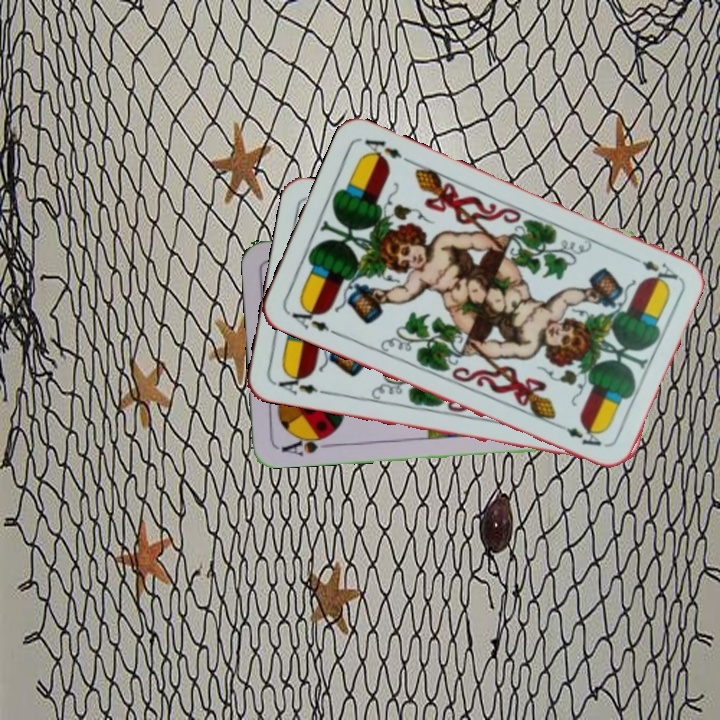EA: (284, 301, 341, 338), (625, 251, 681, 287), (271, 369, 330, 398)
SA: (277, 430, 334, 458)
